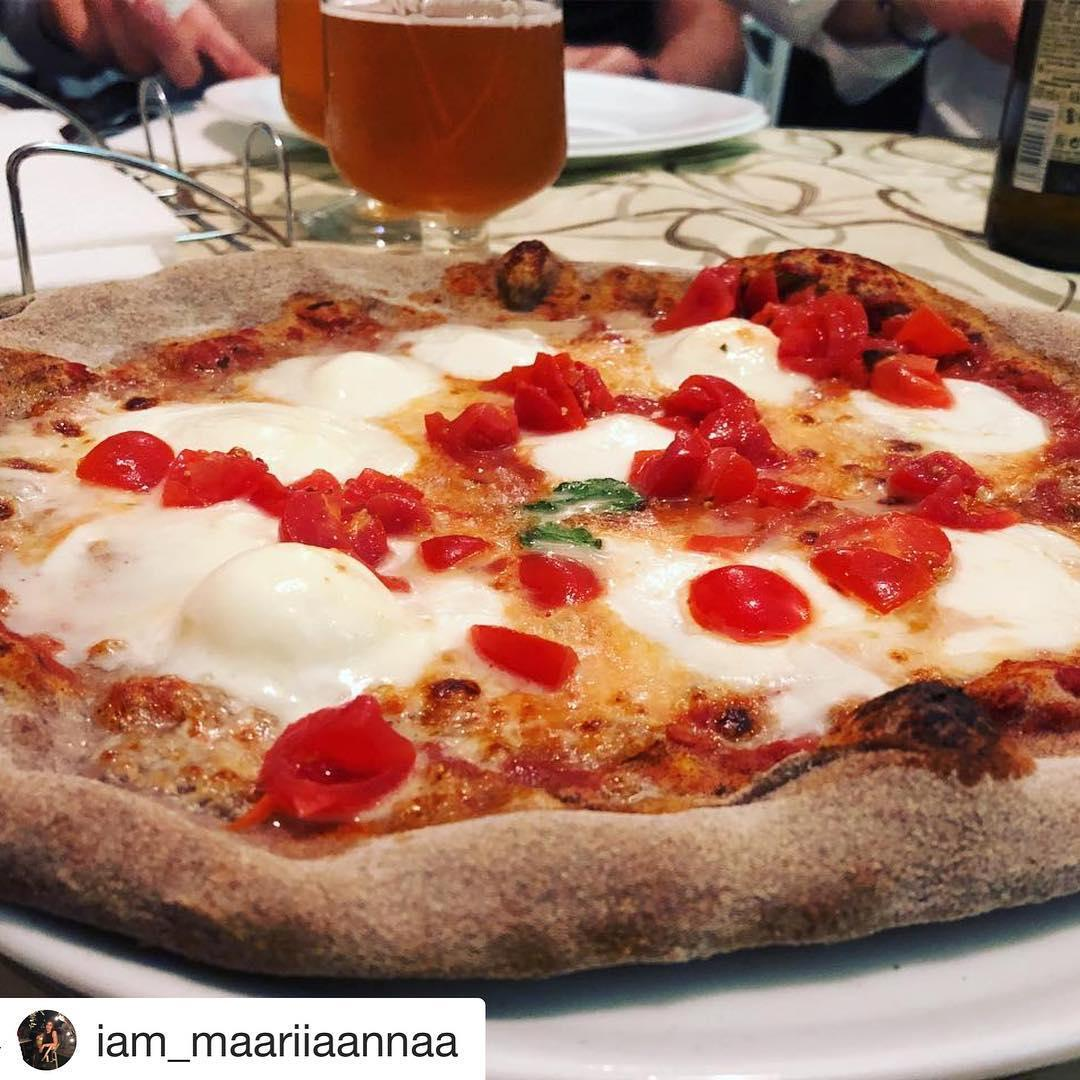Basil: (510, 450, 645, 560)
Pizza: (0, 238, 1080, 992)
Tomatoes: (765, 285, 975, 415), (635, 360, 790, 525), (248, 683, 403, 840), (253, 455, 432, 572), (798, 502, 962, 620), (463, 337, 642, 437), (672, 545, 817, 650), (890, 440, 1027, 547), (153, 422, 277, 520), (462, 607, 580, 697), (70, 415, 185, 495), (413, 393, 537, 458), (508, 542, 603, 623), (668, 257, 737, 338), (408, 518, 505, 575)
